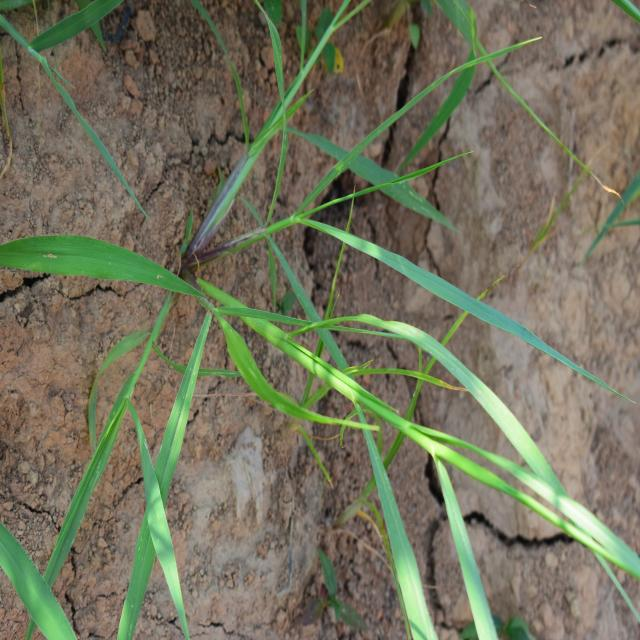green_foxtail: (322, 179, 574, 572), (36, 192, 277, 578)
